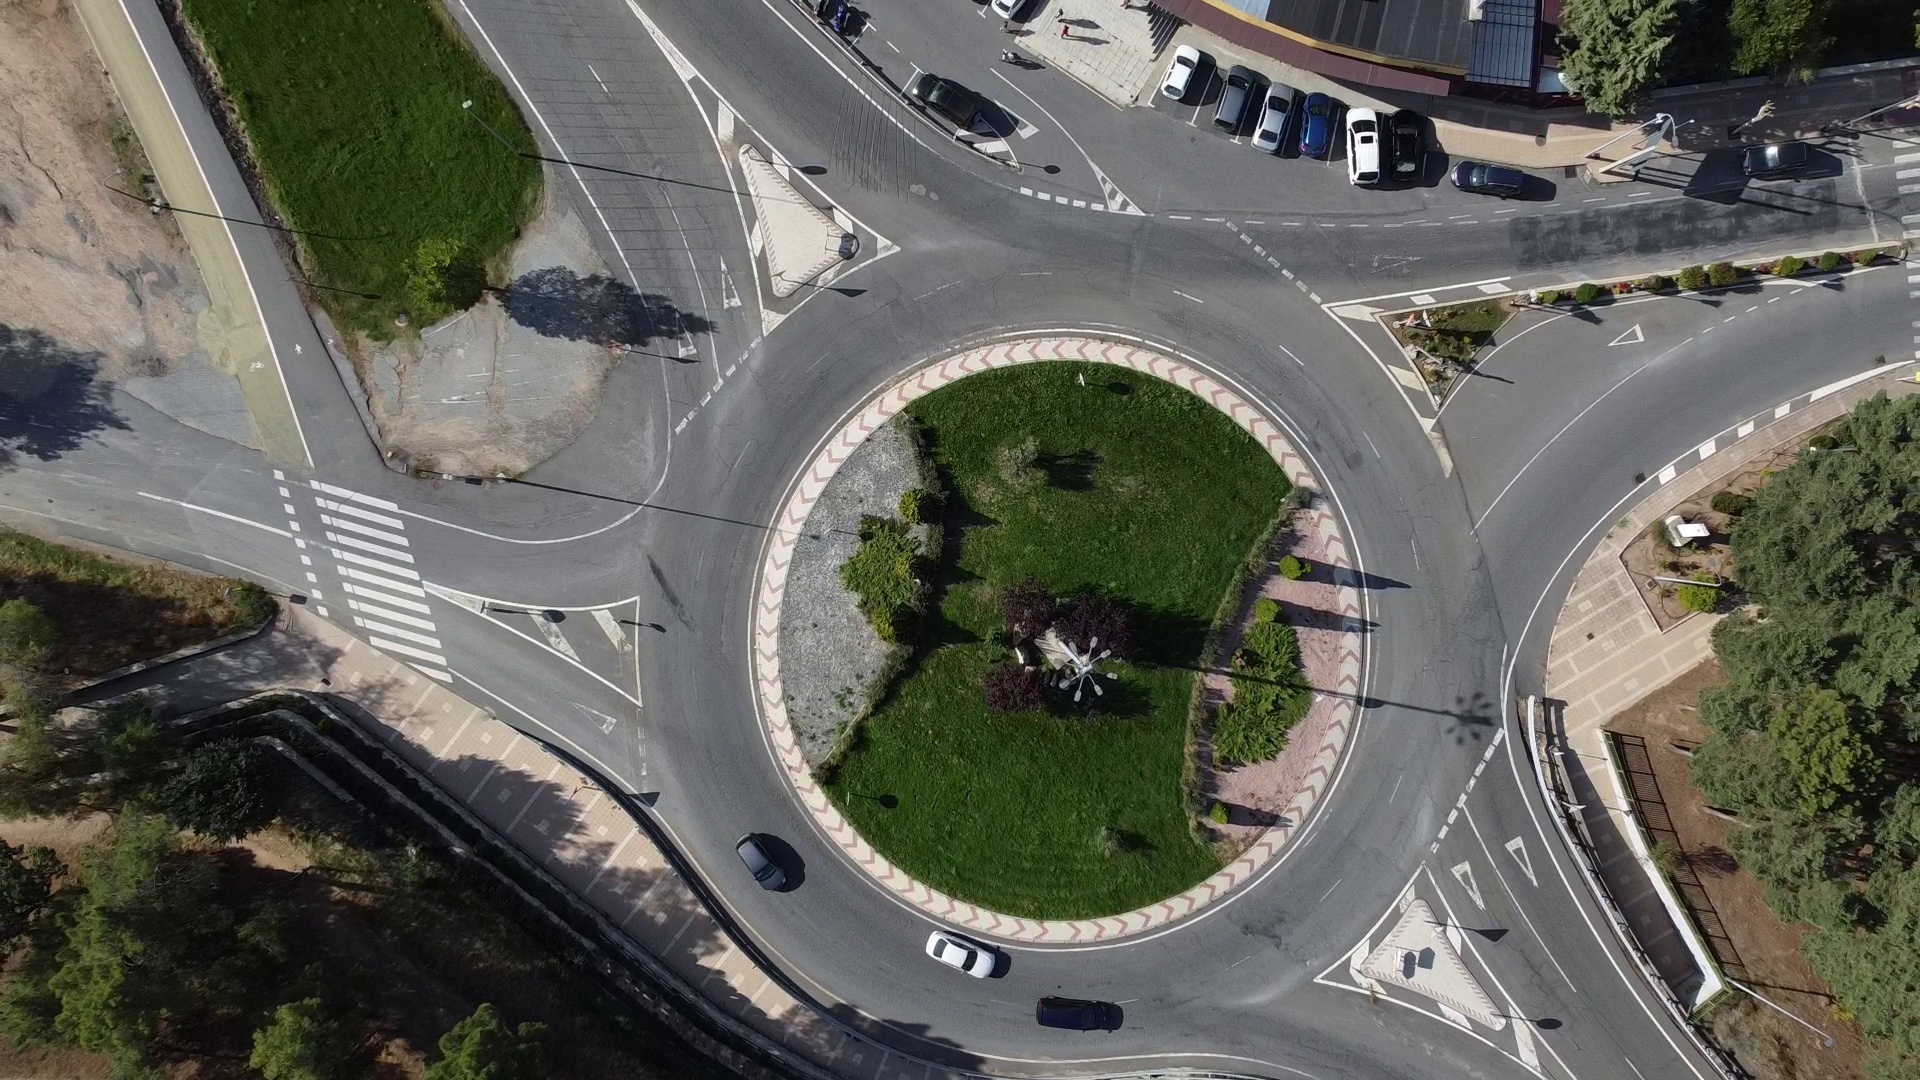cycle: (832, 4, 848, 33)
vehicle: (909, 71, 980, 129), (923, 927, 996, 982), (1249, 80, 1296, 158), (731, 829, 786, 891), (1208, 65, 1254, 133), (1447, 158, 1524, 196), (1342, 104, 1379, 185), (1156, 44, 1201, 103), (1294, 90, 1332, 158), (1738, 140, 1811, 175), (1386, 111, 1422, 183), (1036, 996, 1106, 1033)
